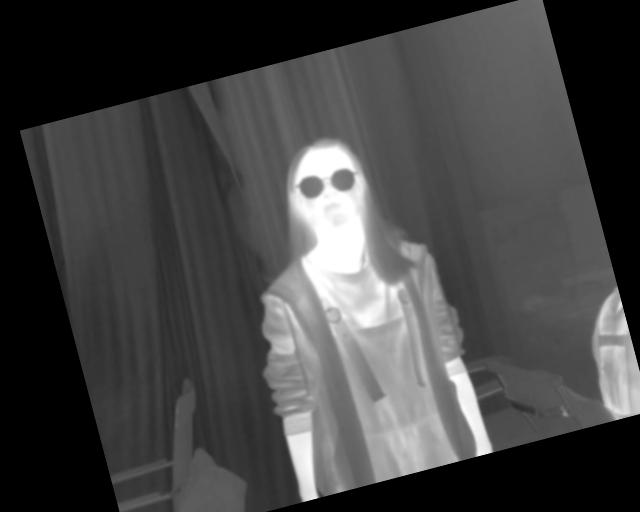face: (277, 130, 375, 239)
